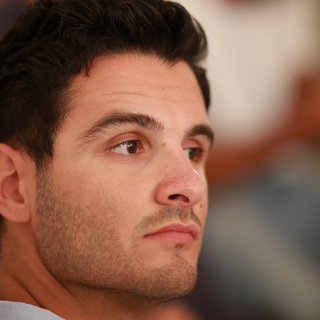eye: (103, 132, 150, 159), (180, 138, 205, 165)
